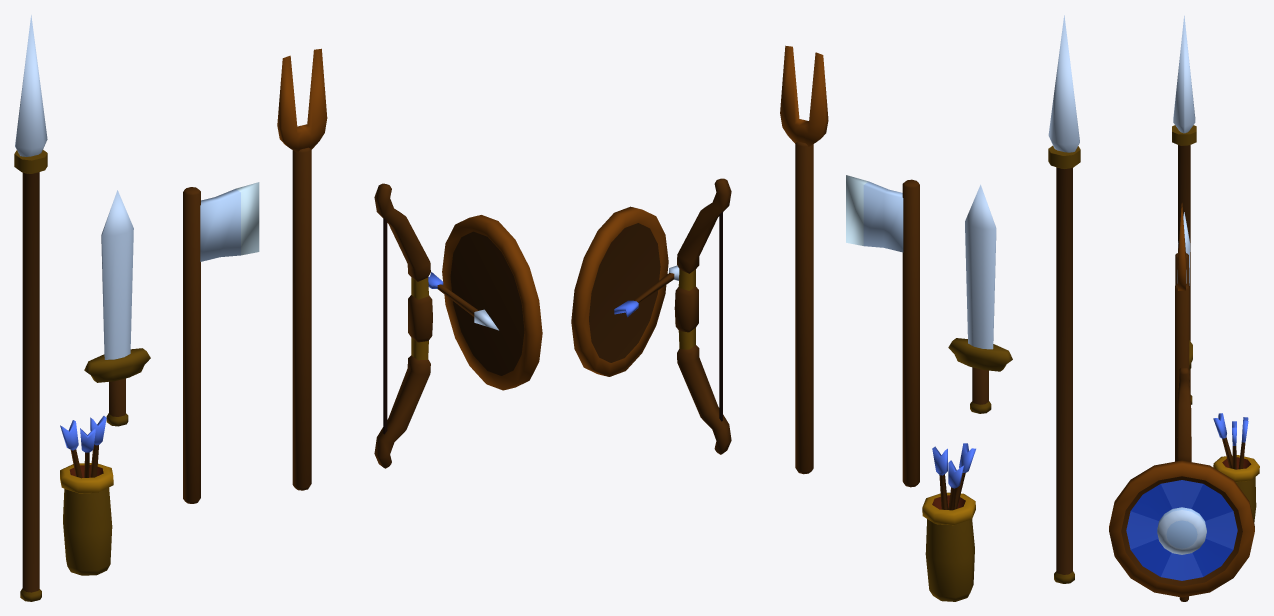
The model's file is Equipments.fbx.
The picture shows the model from 3 angles, left to right: view 1: azimuth 30°, elevation 25°; view 2: azimuth 150°, elevation 25°; view 3: azimuth 270°, elevation 25°; orthographic projection. The views are drawn at different scales.
Visible parts, largest first — view 1: Shield, Spear, PeasantFork, LumberAxe, Bow, Sword, Quiver, Arrow; view 2: Shield, Spear, PeasantFork, LumberAxe, Bow, Sword, Quiver, Arrow; view 3: Shield, Spear, PeasantFork, Quiver, Bow, Sword.
Part boxes in pixels (x1=…): Shield: x1=442, y1=215, x2=542, y2=390; Spear: x1=14, y1=15, x2=47, y2=601; PeasantFork: x1=277, y1=48, x2=327, y2=490; LumberAxe: x1=183, y1=182, x2=259, y2=503; Bow: x1=374, y1=183, x2=432, y2=468; Sword: x1=84, y1=190, x2=150, y2=426; Quiver: x1=60, y1=416, x2=113, y2=575; Arrow: x1=428, y1=272, x2=498, y2=330; Shield: x1=571, y1=206, x2=668, y2=376; Spear: x1=1048, y1=15, x2=1080, y2=583; PeasantFork: x1=780, y1=45, x2=828, y2=474; LumberAxe: x1=846, y1=175, x2=919, y2=487; Bow: x1=674, y1=178, x2=731, y2=454; Sword: x1=948, y1=184, x2=1012, y2=413; Quiver: x1=922, y1=443, x2=975, y2=601; Arrow: x1=614, y1=265, x2=679, y2=317; Shield: x1=1109, y1=460, x2=1254, y2=597; Spear: x1=1172, y1=15, x2=1196, y2=340; PeasantFork: x1=1175, y1=203, x2=1189, y2=461; Quiver: x1=1213, y1=413, x2=1259, y2=522; Bow: x1=1177, y1=368, x2=1191, y2=601; Sword: x1=1178, y1=212, x2=1192, y2=404.
Size of the model in its own units: 1.45 by 1.7 by 0.4707.
